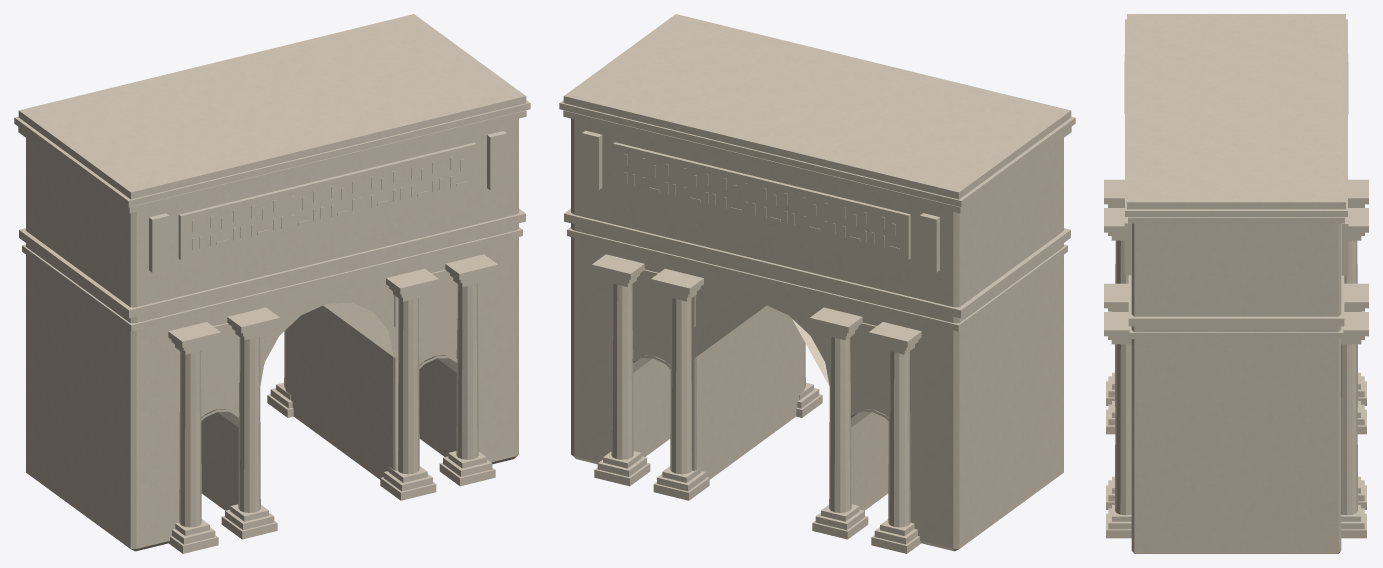
File: Arch.fbx
3 renders of one model, left to right at view 1: azimuth 30°, elevation 25°; view 2: azimuth 150°, elevation 25°; view 3: azimuth 270°, elevation 25°, orthographic. The views are drawn at different scales.
Visible parts, largest first — view 1: Arch; view 2: Arch; view 3: Arch.
Boxes of the visible parts, x1=… form: Arch: x1=14, y1=14, x2=530, y2=553; Arch: x1=559, y1=14, x2=1075, y2=553; Arch: x1=1104, y1=14, x2=1368, y2=553.
Bounding box in the file's own units: 23.8 × 20.57 × 13.9.
